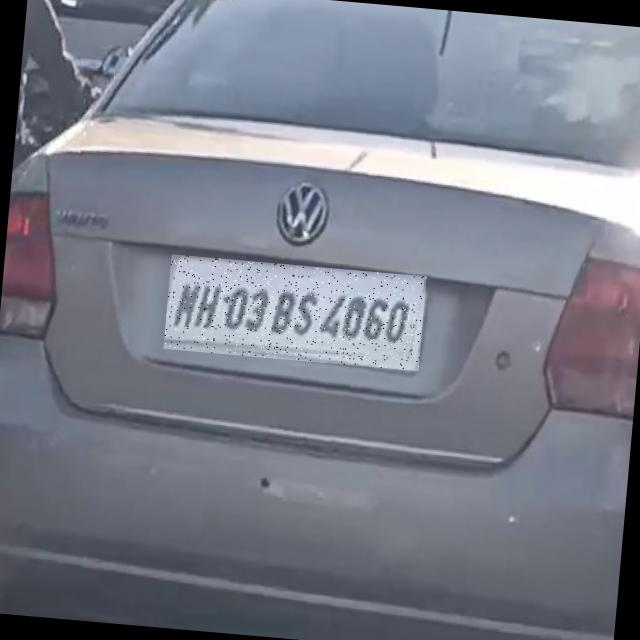Plate: (164, 255, 427, 372)
